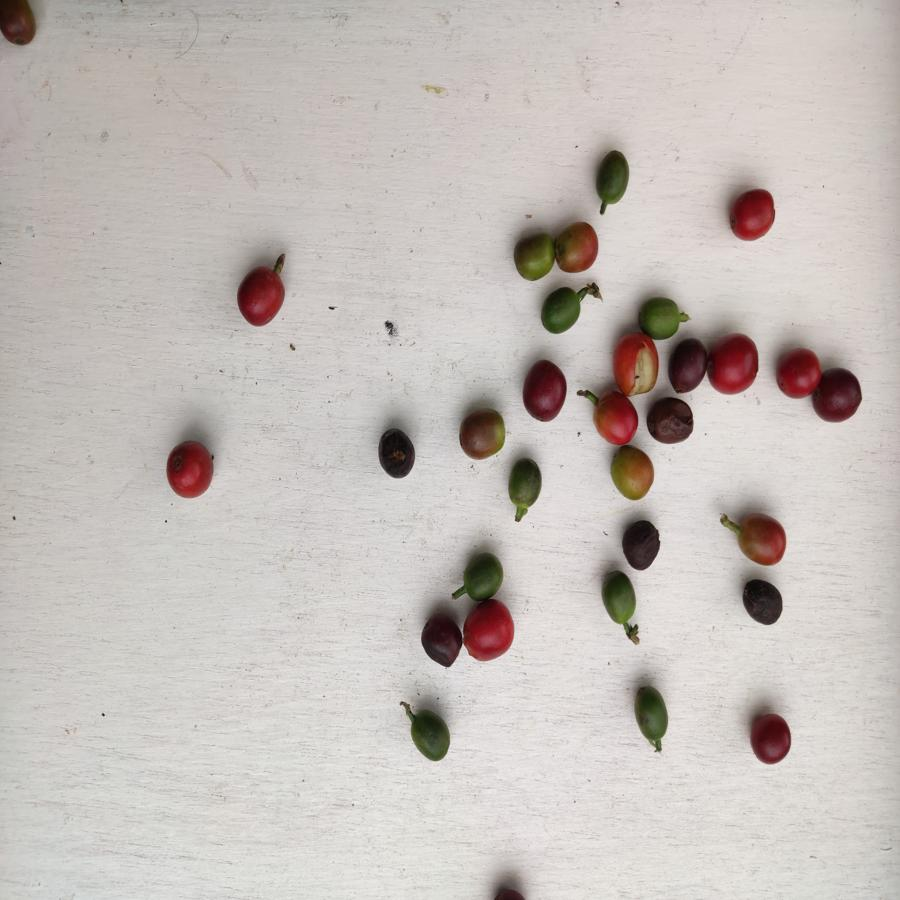Inmaduro: (410, 703, 455, 761), (458, 551, 506, 604), (630, 683, 672, 742), (598, 572, 636, 627), (594, 149, 630, 204), (507, 457, 546, 507), (638, 295, 684, 335), (542, 287, 580, 334)
Maduro: (464, 603, 521, 666), (710, 331, 760, 397), (233, 265, 288, 325), (162, 440, 215, 499), (610, 332, 659, 394), (727, 190, 781, 240), (593, 390, 639, 445), (774, 348, 819, 401)
Pinton: (736, 513, 787, 568), (608, 446, 657, 502), (459, 409, 507, 461), (511, 231, 556, 283), (556, 223, 600, 275)
Sobremaduro: (520, 358, 571, 423), (813, 369, 865, 425), (376, 427, 423, 483), (619, 518, 665, 573), (645, 392, 694, 443), (749, 712, 794, 766), (740, 576, 785, 627), (419, 616, 464, 665), (668, 338, 706, 395), (1, 1, 40, 46)
